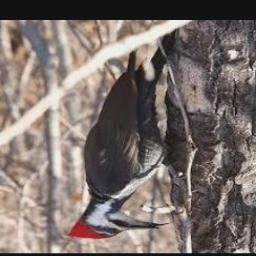Woodpecker: (68, 30, 172, 239)
